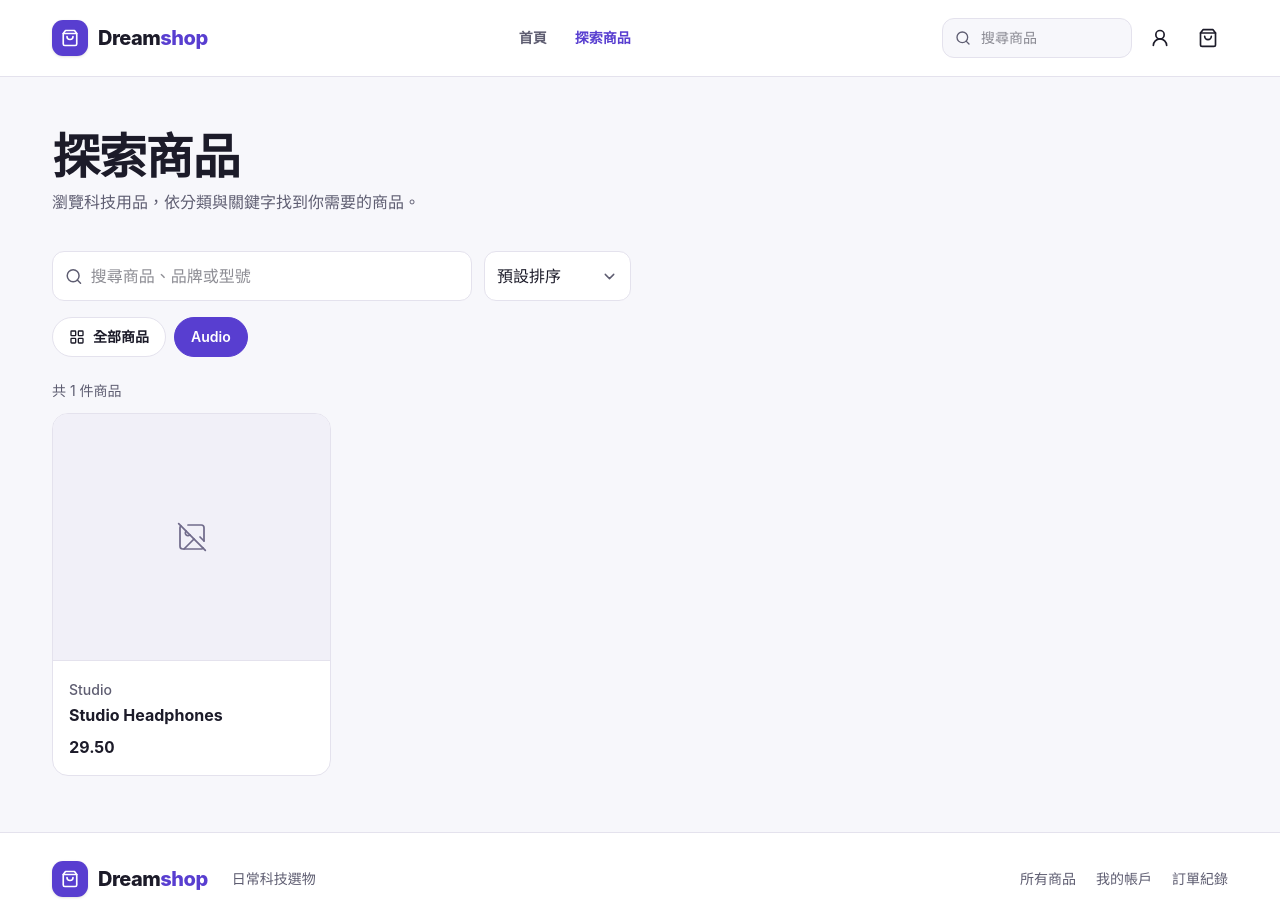
Dreamshop › uses the category endpoint and narrows its results by text
Check: the link with aria-label "查看 Studio Headphones" is shown, box [53,414,330,775]
Type "其他" into the field named "搜尋型號、品牌或商品" at (275, 276), box [91,264,459,288]
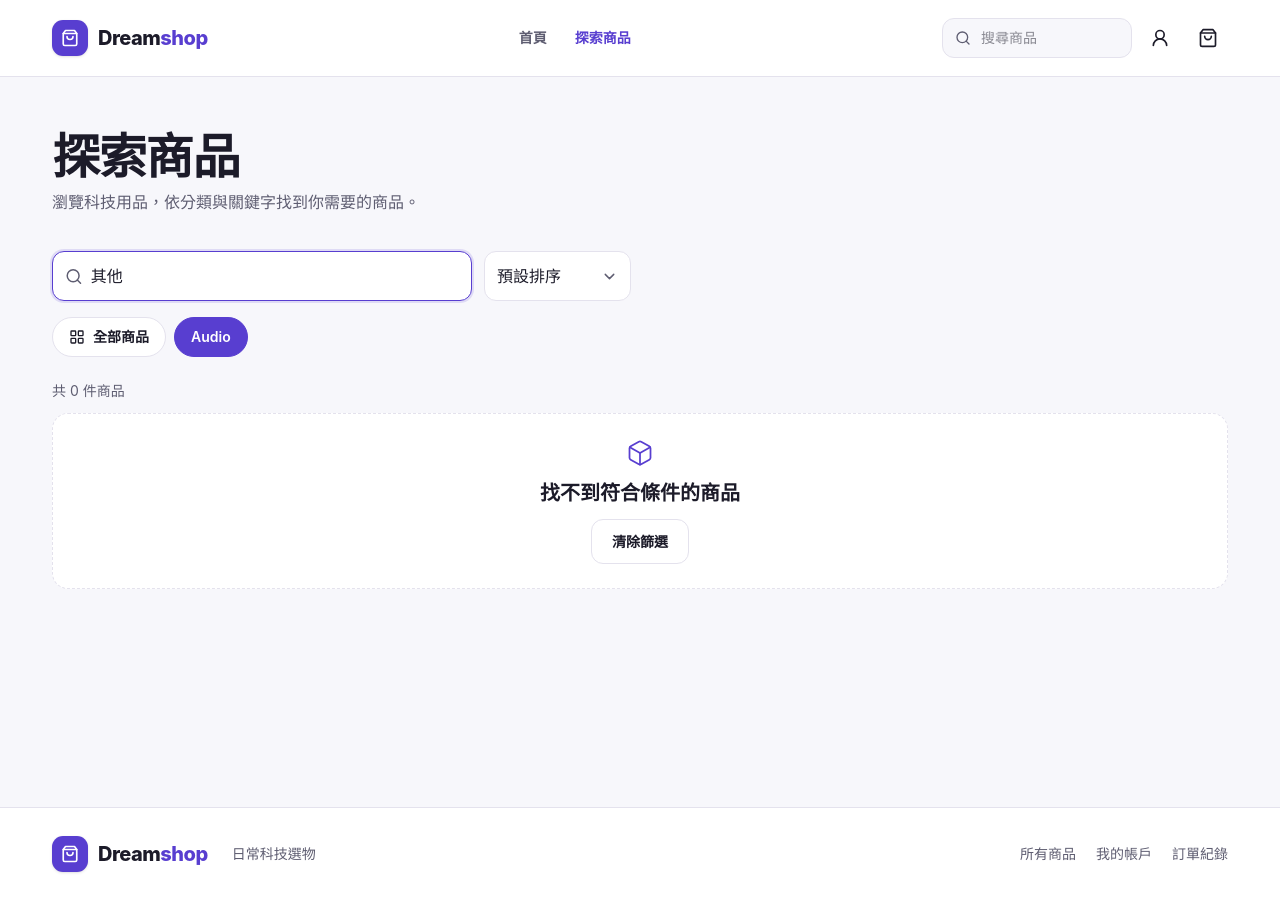
Check: the heading "找不到符合條件的商品" is shown, box [540,479,740,507]
